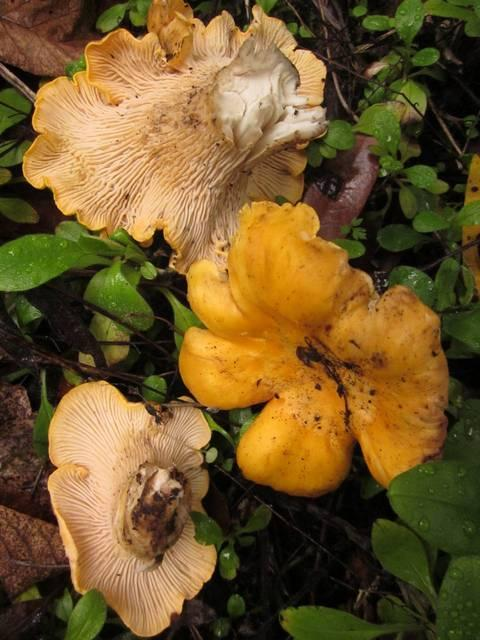edible_mushroom: (20, 0, 330, 276), (177, 198, 450, 498), (45, 378, 218, 638)
